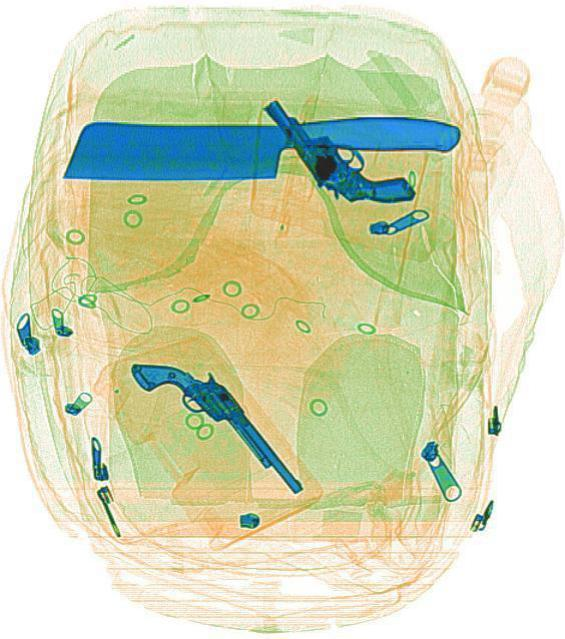Gun: (124, 323, 303, 529), (261, 57, 418, 240)
Knife: (61, 115, 458, 179)
